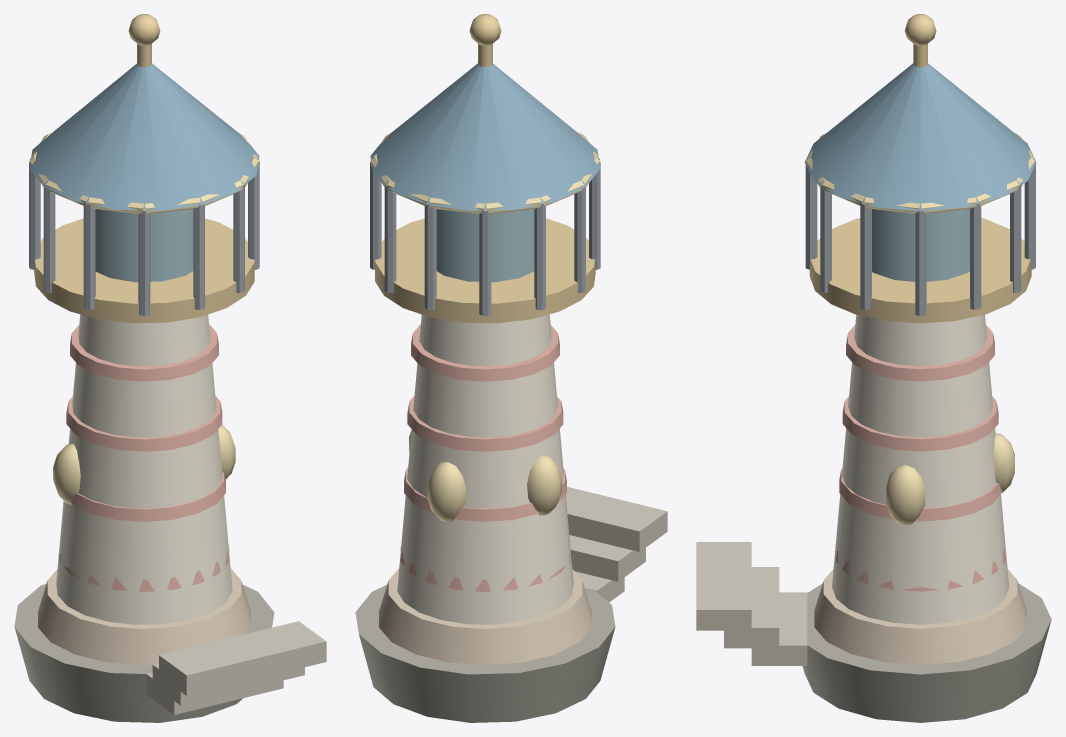
Rendered from lighthouse.glb.
The picture shows the model from 3 angles, left to right: view 1: azimuth 30°, elevation 25°; view 2: azimuth 150°, elevation 25°; view 3: azimuth 270°, elevation 25°; orthographic projection.
Parts seen in each view (by area): view 1: CoastalLighthouse-cream, CoastalLighthouse-roof, CoastalLighthouse-gold, CoastalLighthouse-stone, CoastalLighthouse-stoneDark, CoastalLighthouse-sandstone, CoastalLighthouse-steel, CoastalLighthouse-coral, CoastalLighthouse-roofLight, CoastalLighthouse-brass; view 2: CoastalLighthouse-cream, CoastalLighthouse-roof, CoastalLighthouse-stoneDark, CoastalLighthouse-gold, CoastalLighthouse-sandstone, CoastalLighthouse-steel, CoastalLighthouse-coral, CoastalLighthouse-stone, CoastalLighthouse-roofLight, CoastalLighthouse-brass; view 3: CoastalLighthouse-cream, CoastalLighthouse-roof, CoastalLighthouse-stoneDark, CoastalLighthouse-gold, CoastalLighthouse-stone, CoastalLighthouse-sandstone, CoastalLighthouse-steel, CoastalLighthouse-coral, CoastalLighthouse-roofLight, CoastalLighthouse-brass.
Boxes of the visible parts, left/top/right/bottom form: CoastalLighthouse-cream: left=56, top=314, right=232, bottom=624; CoastalLighthouse-roof: left=29, top=63, right=259, bottom=210; CoastalLighthouse-gold: left=34, top=14, right=254, bottom=323; CoastalLighthouse-stone: left=146, top=621, right=326, bottom=714; CoastalLighthouse-stoneDark: left=14, top=583, right=274, bottom=722; CoastalLighthouse-sandstone: left=38, top=568, right=250, bottom=665; CoastalLighthouse-steel: left=29, top=161, right=259, bottom=316; CoastalLighthouse-coral: left=59, top=324, right=229, bottom=591; CoastalLighthouse-roofLight: left=95, top=209, right=193, bottom=282; CoastalLighthouse-brass: left=29, top=131, right=258, bottom=504; CoastalLighthouse-cream: left=397, top=314, right=573, bottom=624; CoastalLighthouse-roof: left=370, top=63, right=600, bottom=210; CoastalLighthouse-stoneDark: left=355, top=584, right=615, bottom=722; CoastalLighthouse-gold: left=375, top=14, right=595, bottom=323; CoastalLighthouse-sandstone: left=379, top=568, right=591, bottom=665; CoastalLighthouse-steel: left=370, top=162, right=600, bottom=316; CoastalLighthouse-coral: left=400, top=324, right=570, bottom=591; CoastalLighthouse-stone: left=565, top=487, right=667, bottom=602; CoastalLighthouse-roofLight: left=436, top=209, right=534, bottom=282; CoastalLighthouse-brass: left=370, top=131, right=599, bottom=521; CoastalLighthouse-cream: left=832, top=314, right=1009, bottom=624; CoastalLighthouse-roof: left=804, top=63, right=1036, bottom=211; CoastalLighthouse-stoneDark: left=802, top=583, right=1051, bottom=722; CoastalLighthouse-gold: left=809, top=14, right=1031, bottom=323; CoastalLighthouse-stone: left=696, top=542, right=807, bottom=665; CoastalLighthouse-sandstone: left=814, top=569, right=1026, bottom=664; CoastalLighthouse-steel: left=805, top=164, right=1035, bottom=315; CoastalLighthouse-coral: left=835, top=325, right=1005, bottom=591; CoastalLighthouse-roofLight: left=872, top=209, right=969, bottom=281; CoastalLighthouse-brass: left=806, top=132, right=1035, bottom=525.
Size of the model in its own units: 0.52 by 1.44 by 0.705.
